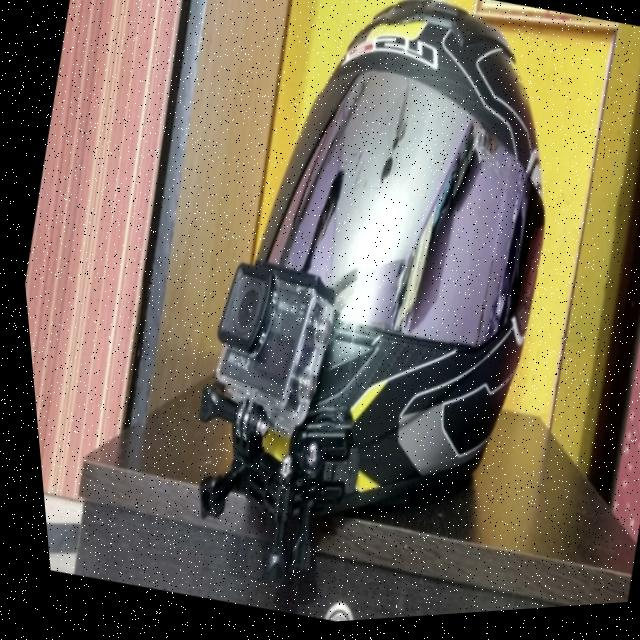helmet: (112, 0, 626, 634)
